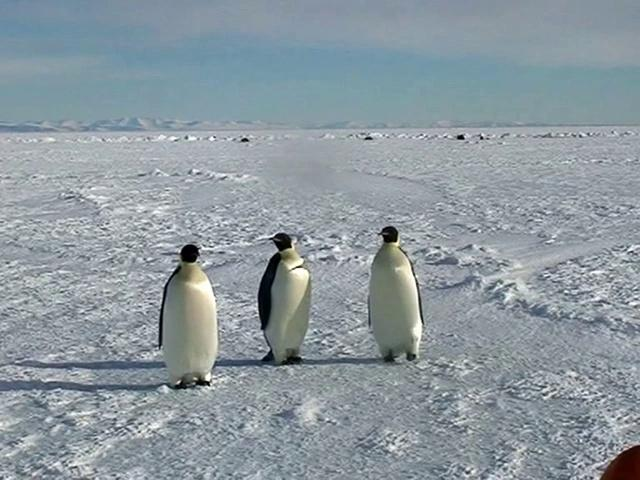animal: (369, 227, 425, 362)
